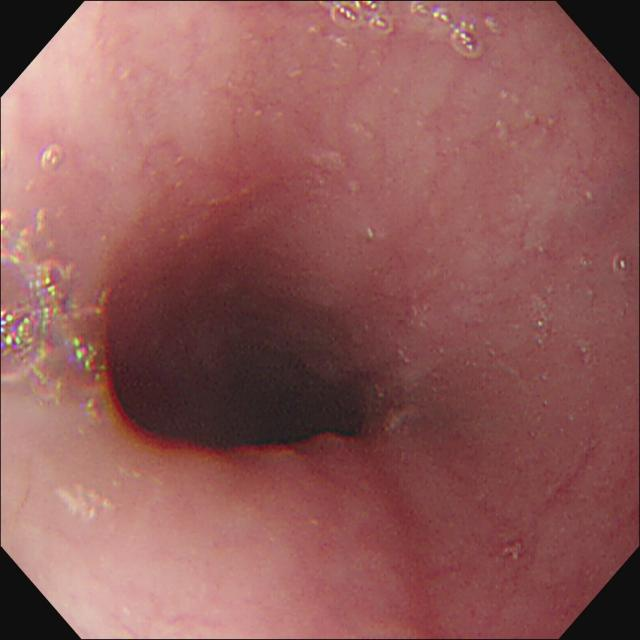E: (88, 237, 389, 462)
T: (2, 141, 110, 425), (316, 2, 513, 63), (612, 251, 635, 278)
